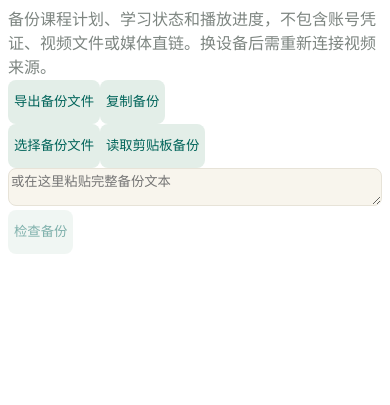
Scenario: BackupPanel › verifies native file contents before recording successful save
This screenshot has width=390, height=405.
Click the button with test id "backup-export" at (54, 102), box [8,80,100,124]
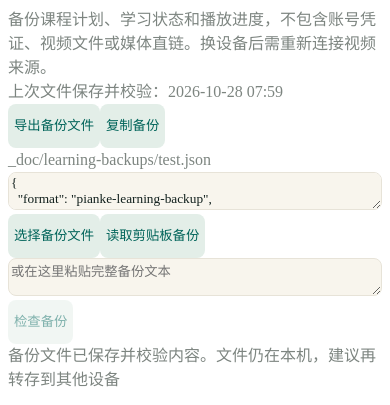
Result: the text "文件已保存并校验内容" is shown at [8,347,376,388]
Click the button with test id "backup-export" at (54, 126), box [8,104,100,148]
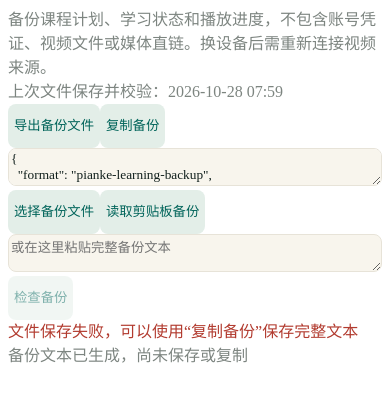
Result: the message "文件保存失败，可以使用“复制备份”保存完整文本" is shown at [8,320,382,344]
